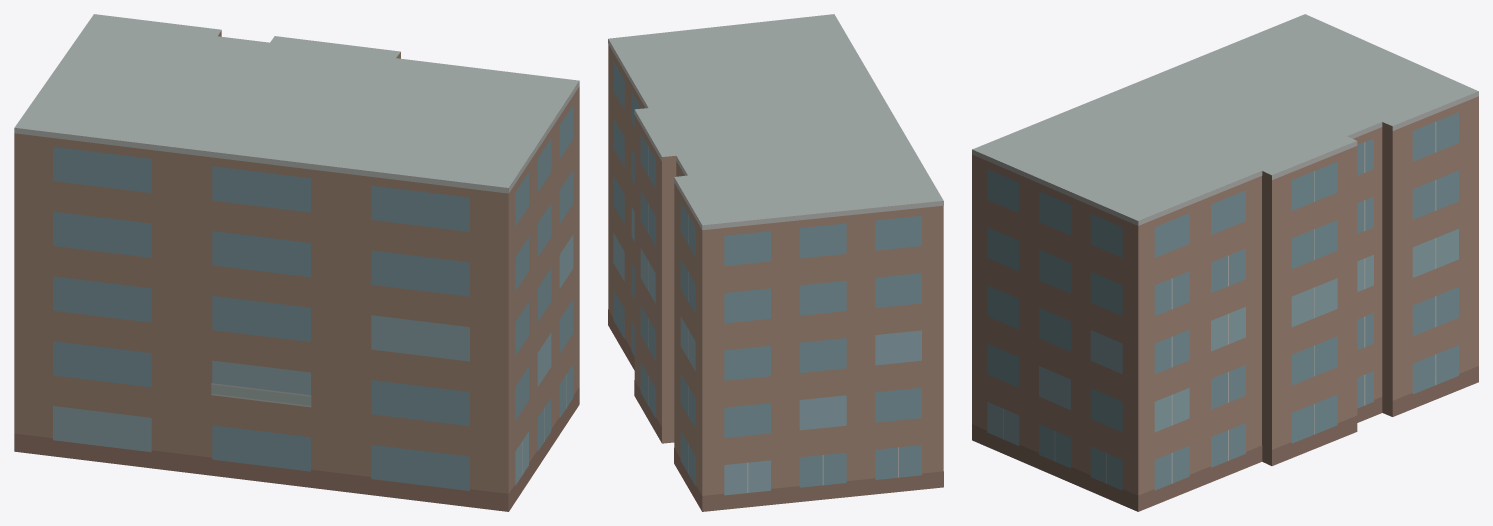
File: survey-upis-32569430.glb
3 views of the same model, side by side, from view 1: azimuth 30°, elevation 25°; view 2: azimuth 150°, elevation 25°; view 3: azimuth 270°, elevation 25° (orthographic). The views are drawn at different scales.
Visible parts, largest first — view 1: survey-upis-32569430.tmp; view 2: survey-upis-32569430.tmp; view 3: survey-upis-32569430.tmp.
Part boxes in pixels (x1,y1,x2,y2): survey-upis-32569430.tmp: [14, 14, 579, 511]; survey-upis-32569430.tmp: [608, 14, 943, 511]; survey-upis-32569430.tmp: [972, 14, 1478, 511].
Size of the model in its own units: 21.86 by 14.32 by 22.61.
